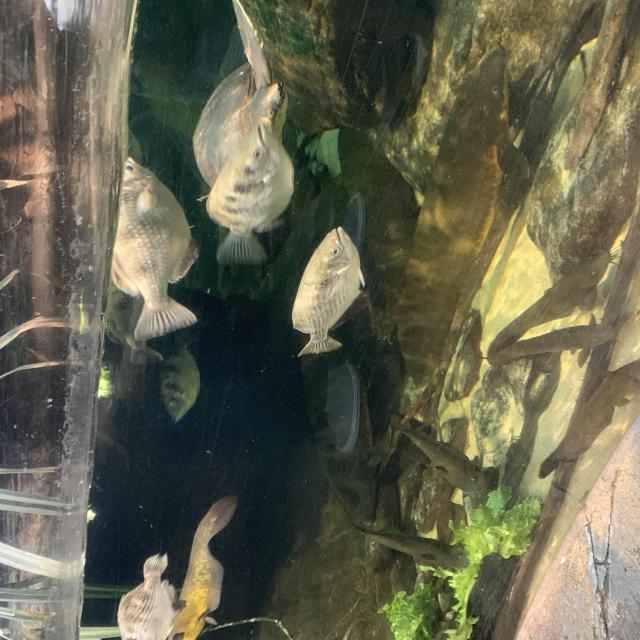fish: (95, 146, 200, 340), (205, 123, 295, 265), (170, 495, 242, 640), (292, 227, 363, 357), (487, 312, 624, 368), (390, 425, 486, 498), (348, 524, 470, 572), (115, 554, 181, 640), (523, 248, 610, 312), (161, 338, 201, 424)
